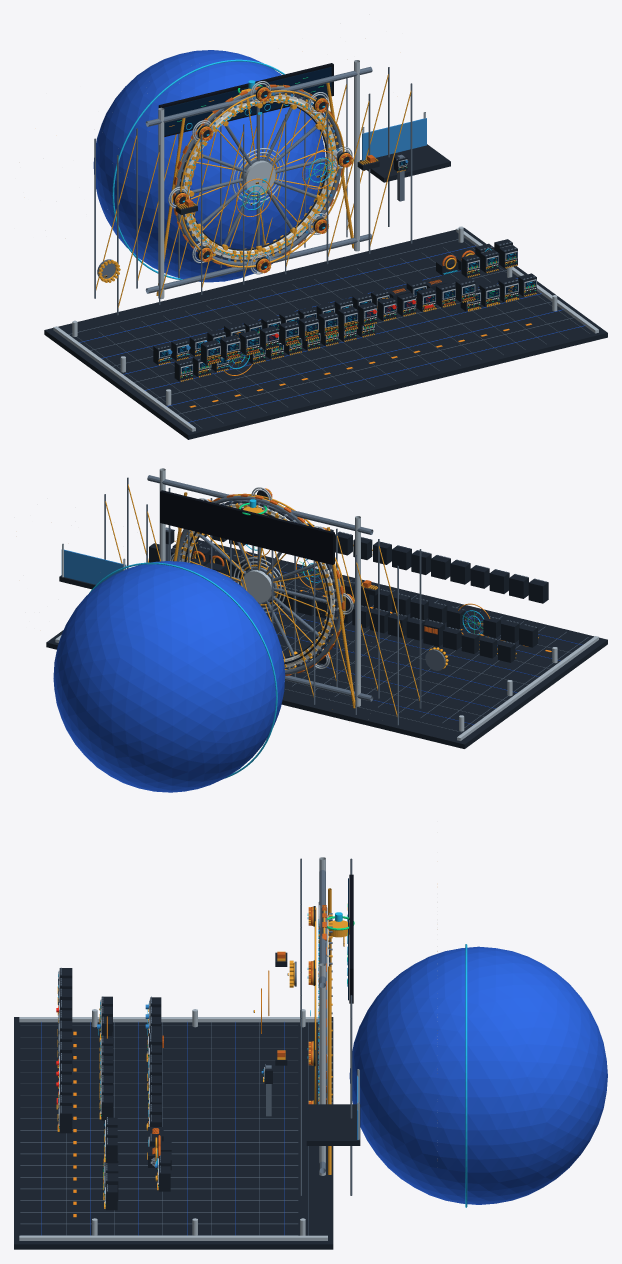
Rendered from Level87_Complete_ArtKit_Showcase.fbx.
The picture shows the model from 3 angles, top to bottom: view 1: azimuth 30°, elevation 25°; view 2: azimuth 150°, elevation 25°; view 3: azimuth 270°, elevation 25°; orthographic projection. The views are drawn at different scales.
Visible parts, largest first — view 1: L87_GravityQualificationArenaBase, L87_PanoramicOrbitalObservationViewport, L87_GravityStationIsolationTruss, L87_GravityStationFixedSupportFrame, L87_HabitatObservationDeck, L87_GravityEngineeringMasterSCADA_Part_0001, L87_GravityRingStructuralGuideTrack, L87_RotatingHabitatSpokeAssembly_Part_0001, L87_RotatingHabitatRingMainRotor_Part_0000, L87_GravityEngineeringMasterSCADA, L87_RotatingHabitatSpokeAssembly_Part_0002, L87_RotatingHabitatSpokeAssembly_Part_0000 (+1 smaller); view 2: L87_PanoramicOrbitalObservationViewport, L87_GravityQualificationArenaBase, L87_GravityEngineeringMasterSCADA, L87_GravityStationIsolationTruss, L87_GravityStationFixedSupportFrame, L87_HabitatObservationDeck, L87_RotatingHabitatSpokeAssembly_Part_0001, L87_GravityRingStructuralGuideTrack, L87_RotatingHabitatSpokeAssembly_Part_0000, L87_RotatingHabitatSpokeAssembly_Part_0002, L87_Protected5VControlSupply, L87_GravitySafetySupervisoryPLC (+2 smaller); view 3: L87_GravityQualificationArenaBase, L87_PanoramicOrbitalObservationViewport, L87_GravityStationFixedSupportFrame, L87_HabitatObservationDeck, L87_GravityStationIsolationTruss, L87_GravityRingStructuralGuideTrack, L87_GravityEngineeringMasterSCADA.
Boxes of the visible parts, box(x1,y1,x2,y2) form: L87_GravityQualificationArenaBase: box(44, 226, 607, 439); L87_PanoramicOrbitalObservationViewport: box(93, 50, 325, 282); L87_GravityStationIsolationTruss: box(94, 67, 412, 315); L87_GravityStationFixedSupportFrame: box(145, 60, 372, 299); L87_HabitatObservationDeck: box(360, 112, 450, 182); L87_GravityEngineeringMasterSCADA_Part_0001: box(163, 67, 331, 135); L87_GravityRingStructuralGuideTrack: box(175, 86, 344, 267); L87_RotatingHabitatSpokeAssembly_Part_0001: box(191, 107, 325, 246); L87_RotatingHabitatRingMainRotor_Part_0000: box(185, 97, 334, 257); L87_GravityEngineeringMasterSCADA: box(158, 63, 333, 136); L87_RotatingHabitatSpokeAssembly_Part_0002: box(189, 103, 331, 250); L87_RotatingHabitatSpokeAssembly_Part_0000: box(241, 158, 275, 193); L87_PanoramicOrbitalObservationViewport: box(53, 561, 285, 792); L87_GravityQualificationArenaBase: box(46, 540, 607, 748); L87_GravityEngineeringMasterSCADA: box(160, 490, 334, 564); L87_GravityStationIsolationTruss: box(104, 477, 421, 725); L87_GravityStationFixedSupportFrame: box(147, 468, 373, 708); L87_HabitatObservationDeck: box(59, 543, 126, 589); L87_RotatingHabitatSpokeAssembly_Part_0001: box(198, 534, 327, 656); L87_GravityRingStructuralGuideTrack: box(177, 493, 345, 674); L87_RotatingHabitatSpokeAssembly_Part_0000: box(242, 568, 276, 602); L87_RotatingHabitatSpokeAssembly_Part_0002: box(189, 533, 326, 659); L87_Protected5VControlSupply: box(450, 559, 470, 584); L87_GravitySafetySupervisoryPLC: box(528, 579, 548, 603); L87_GravityQualificationArenaBase: box(14, 1009, 333, 1249); L87_PanoramicOrbitalObservationViewport: box(349, 832, 607, 1207); L87_GravityStationFixedSupportFrame: box(319, 857, 331, 1175); L87_HabitatObservationDeck: box(306, 1069, 360, 1145); L87_GravityStationIsolationTruss: box(300, 858, 352, 1195); L87_GravityRingStructuralGuideTrack: box(310, 906, 327, 1104); L87_GravityEngineeringMasterSCADA: box(349, 874, 353, 1003).
Size of the model in its own units: 3000 by 1709 by 3310.
